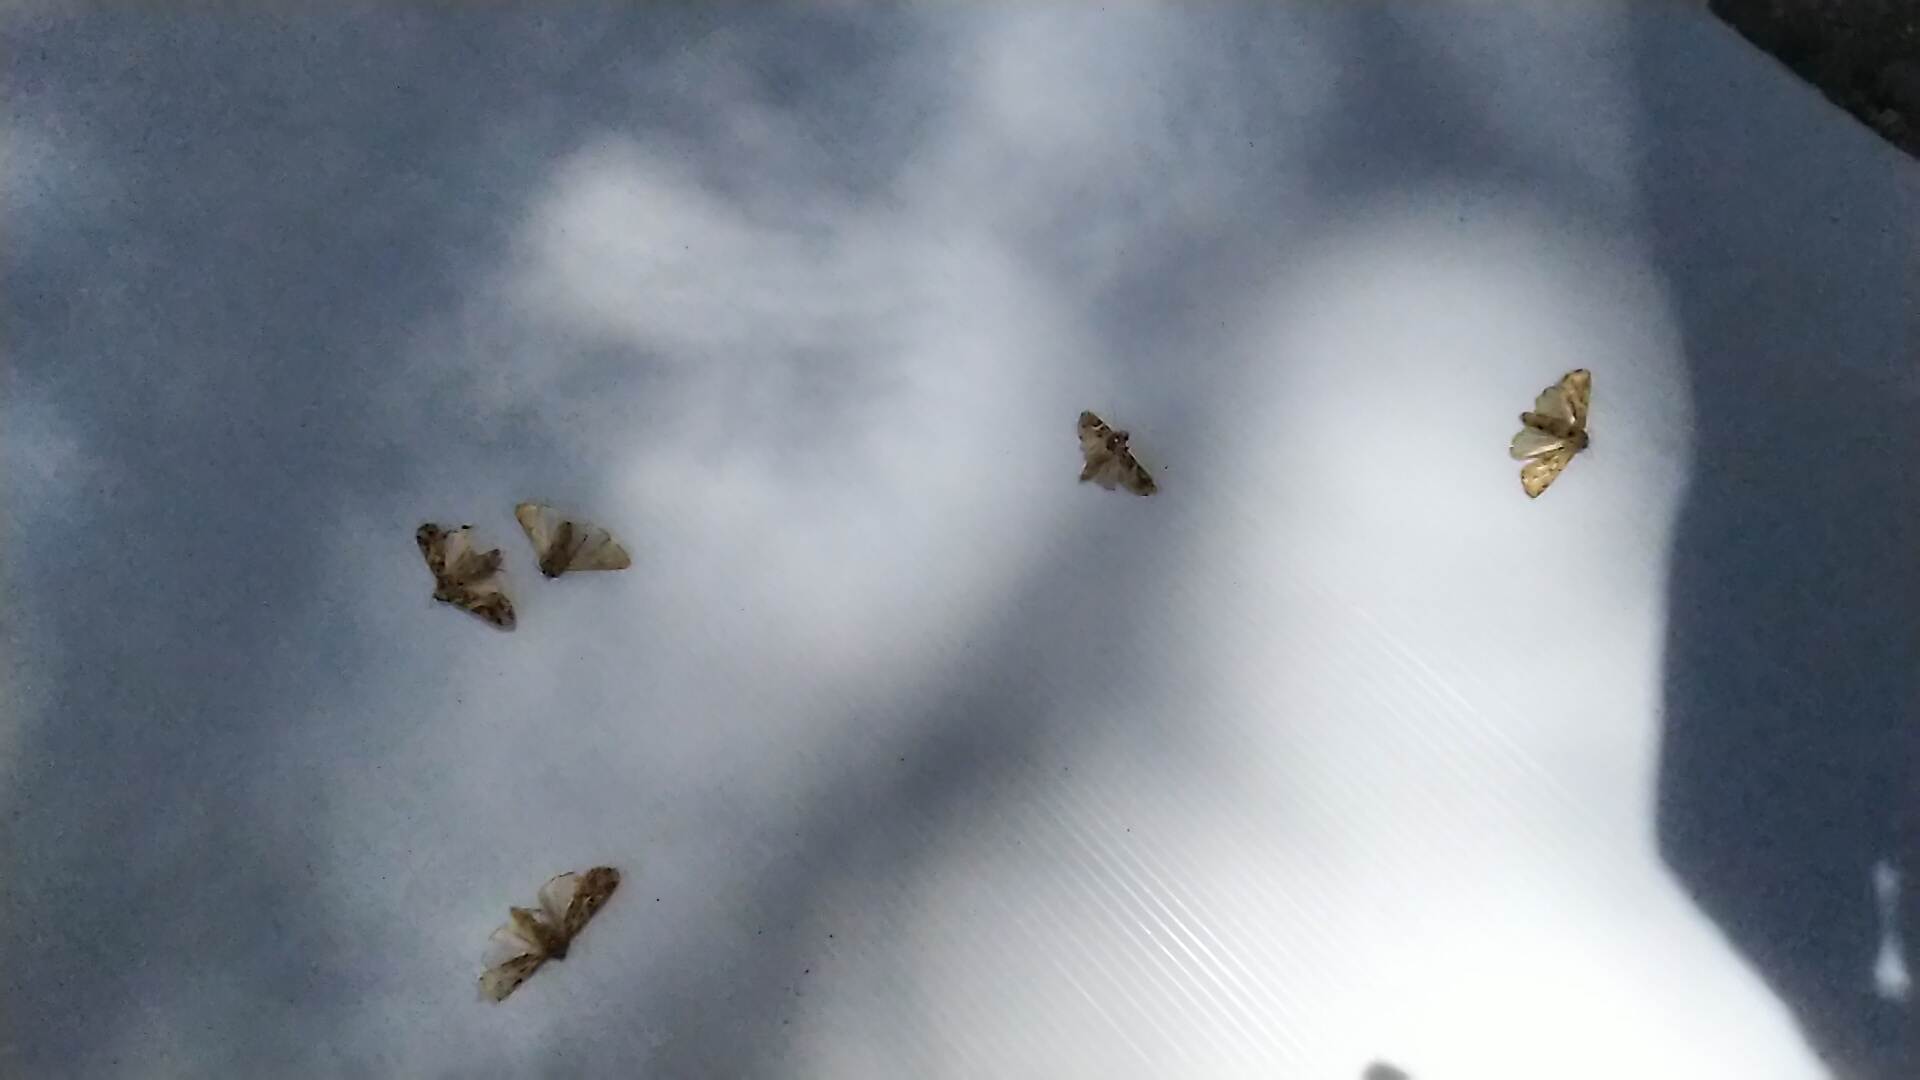INS-B: (464, 843, 629, 1004), (404, 518, 520, 636), (1503, 355, 1604, 491), (502, 493, 636, 582), (1060, 404, 1160, 516)
